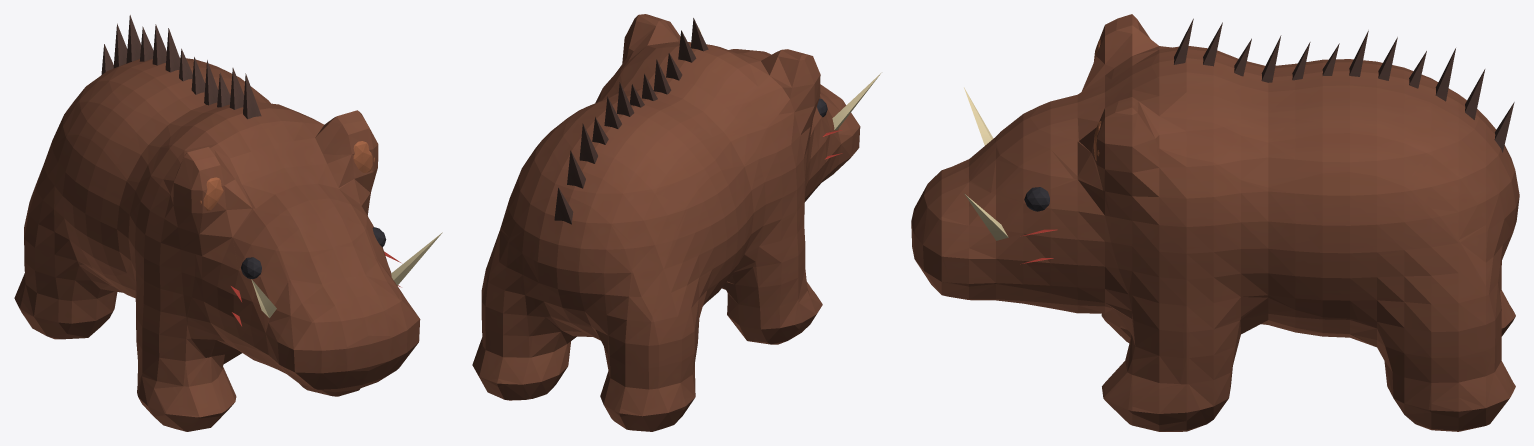
File: alfazwijn.glb
3 views of the same model, side by side, from view 1: azimuth 30°, elevation 25°; view 2: azimuth 150°, elevation 25°; view 3: azimuth 270°, elevation 25° (orthographic). The views are drawn at different scales.
Visible parts, largest first — view 1: world; view 2: world; view 3: world.
Boxes of the visible parts, x1,y1,x2,y2 form: world: (14, 15, 442, 431); world: (472, 14, 881, 431); world: (911, 14, 1519, 431).
Size of the model in its own units: 0.94 by 1.3 by 1.93.
1 material, 1 textured.
